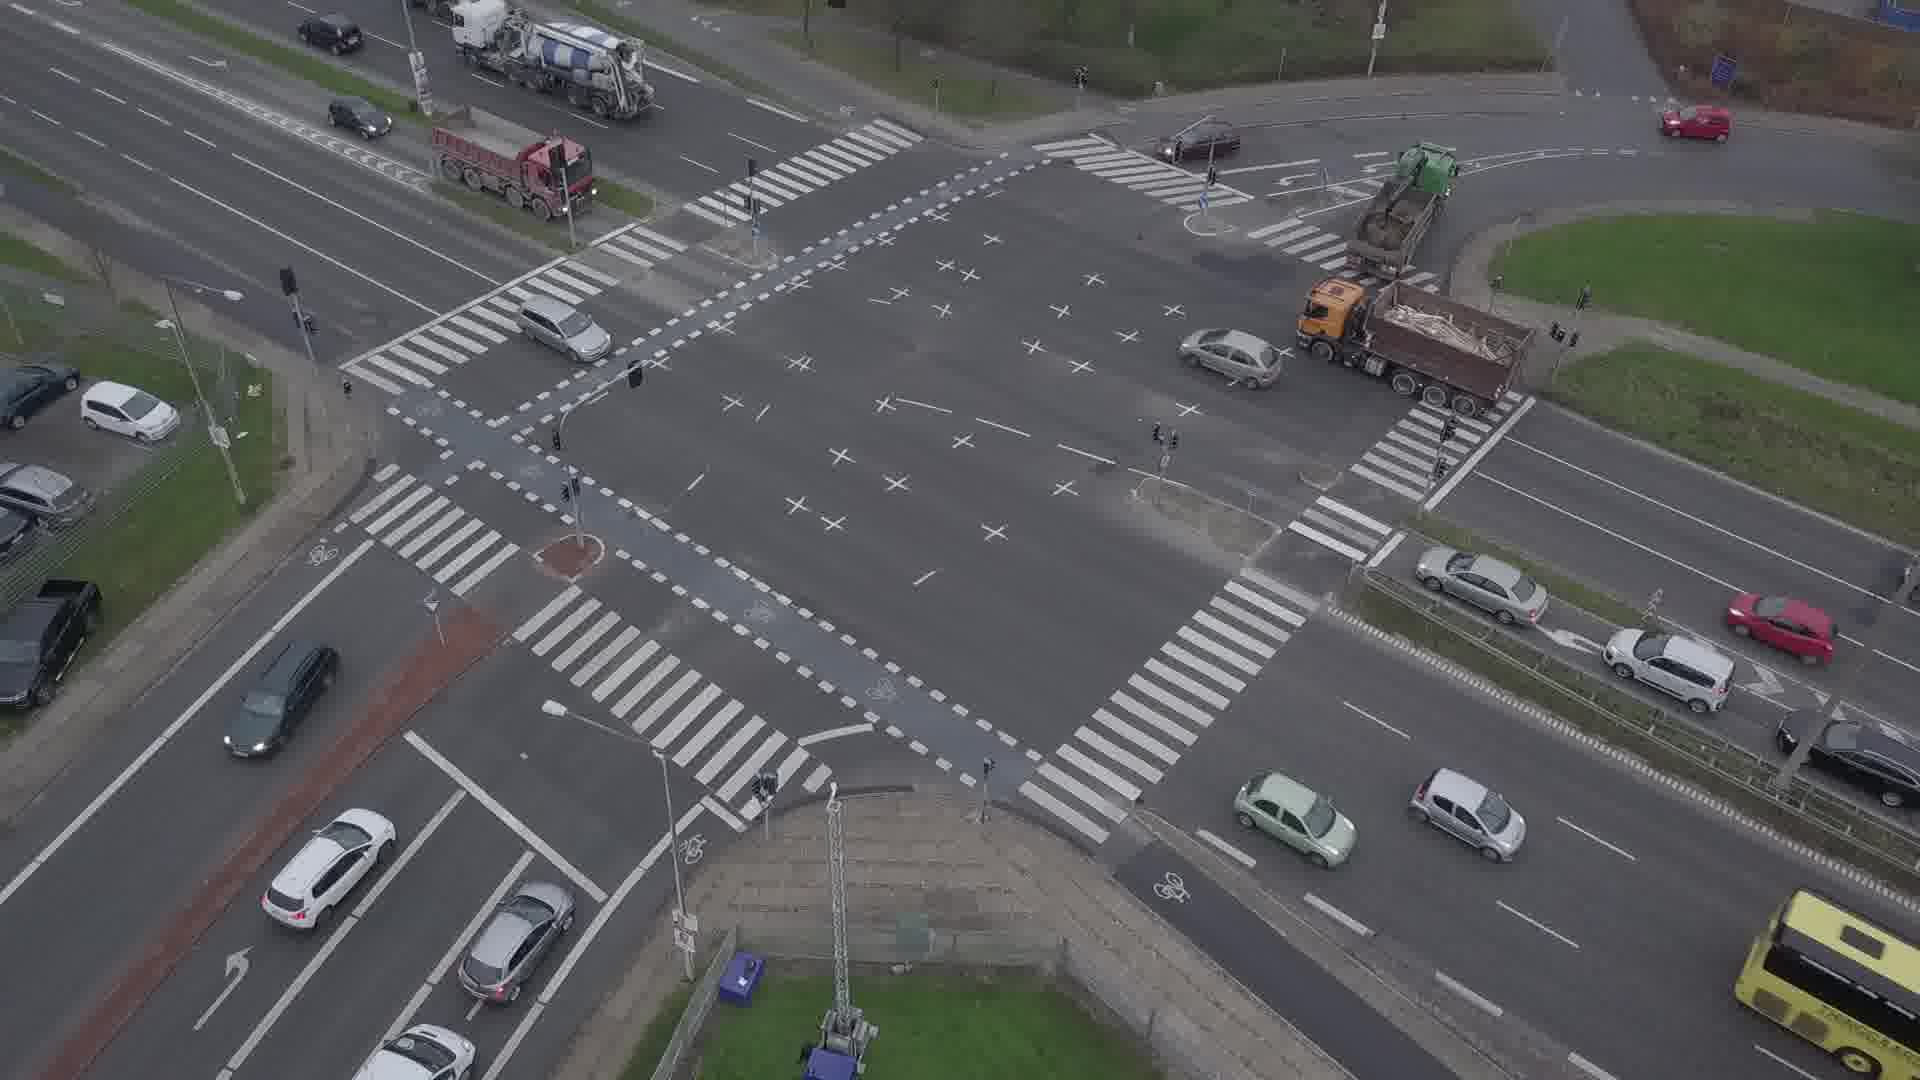car: (261, 808, 397, 929), (457, 881, 575, 1004), (1778, 710, 1920, 808), (223, 640, 339, 759), (1235, 772, 1357, 867), (1603, 627, 1737, 713), (1410, 767, 1527, 860), (1416, 545, 1550, 626), (1726, 592, 1838, 666), (515, 295, 612, 362), (1179, 329, 1282, 388), (326, 94, 392, 141), (1159, 121, 1241, 158), (297, 15, 362, 55), (1662, 106, 1730, 142)
lorry: (1295, 277, 1535, 418), (451, 0, 657, 118), (429, 105, 598, 219), (1346, 142, 1461, 280), (346, 1024, 476, 1080)
